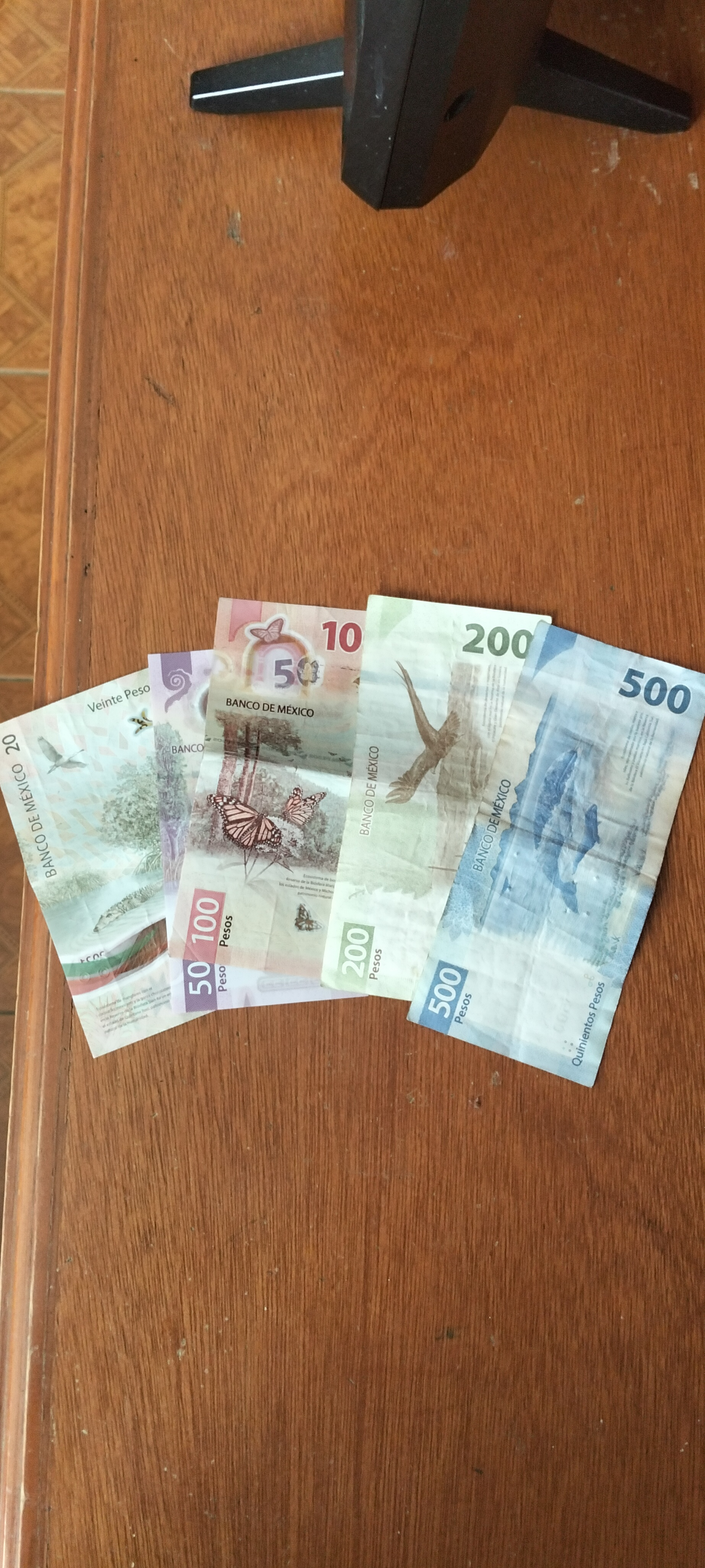billetes: (2, 551, 705, 1090)
